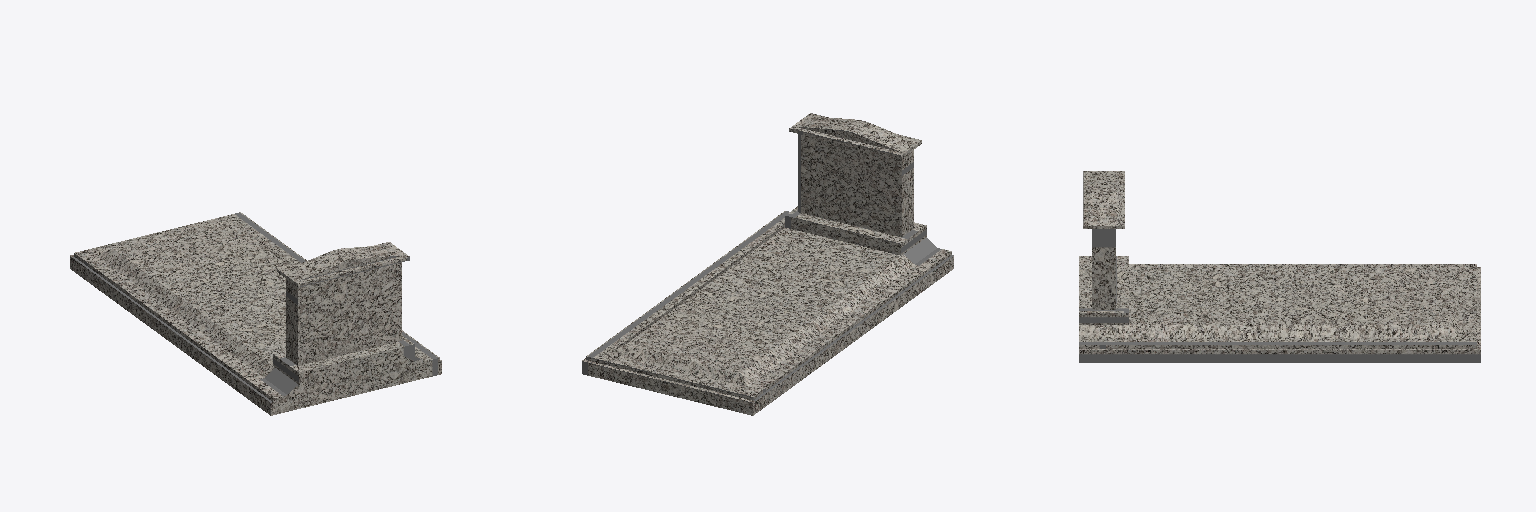
The picture shows the model from 3 angles: view 1: azimuth 30°, elevation 25°; view 2: azimuth 150°, elevation 25°; view 3: azimuth 270°, elevation 25°; orthographic projection.
Visible parts, largest first — view 1: grave3; view 2: grave3; view 3: grave3.
Boxes of the visible parts, x1=… form: grave3: x1=70, y1=212, x2=441, y2=415; grave3: x1=582, y1=113, x2=953, y2=415; grave3: x1=1079, y1=171, x2=1480, y2=362.
Bounding box in the file's own units: 114 × 83.2 × 232.
1 materials, 1 textured.